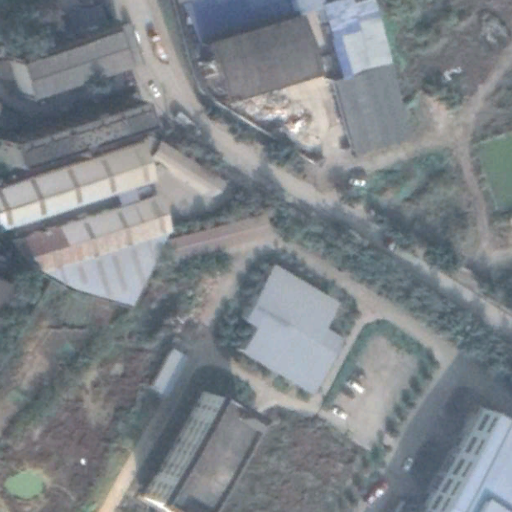msw: (241, 86, 321, 150)
